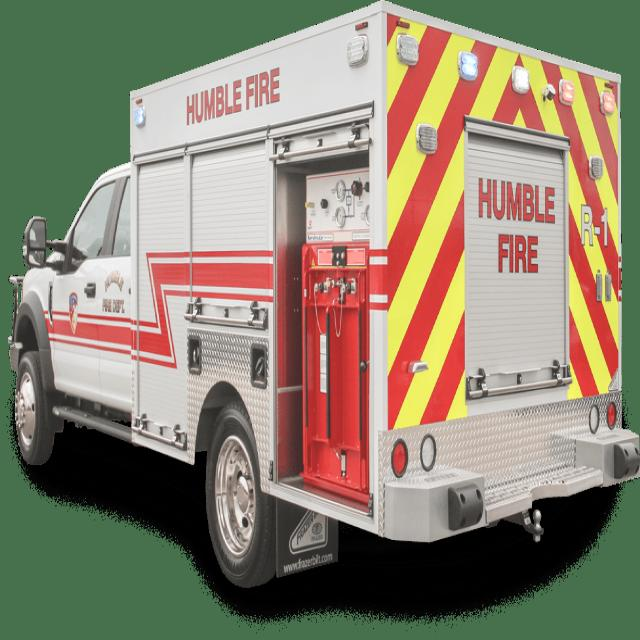emergency: (10, 2, 640, 585)
